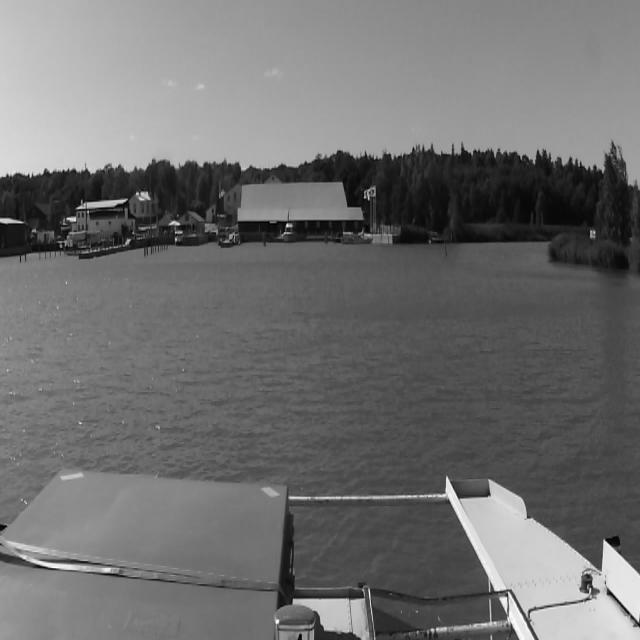buoy: (442, 238, 448, 259)
ship: (333, 183, 381, 247), (283, 212, 295, 244)
